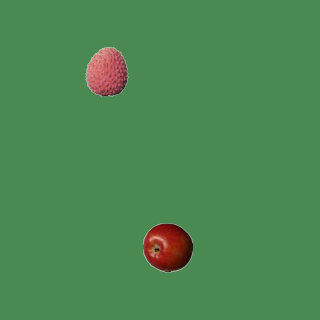Apple Braeburn: (142, 222, 192, 272)
Lychee: (81, 46, 131, 96)
